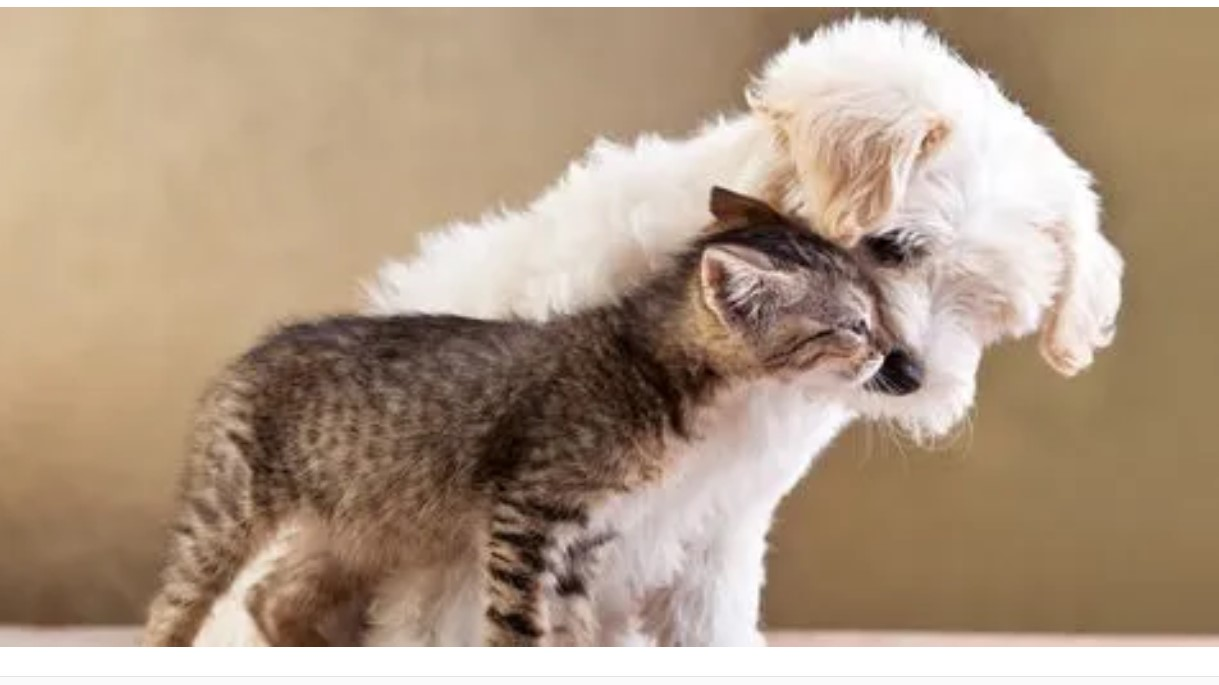cat: (140, 187, 896, 649)
dog: (195, 14, 1122, 648)
